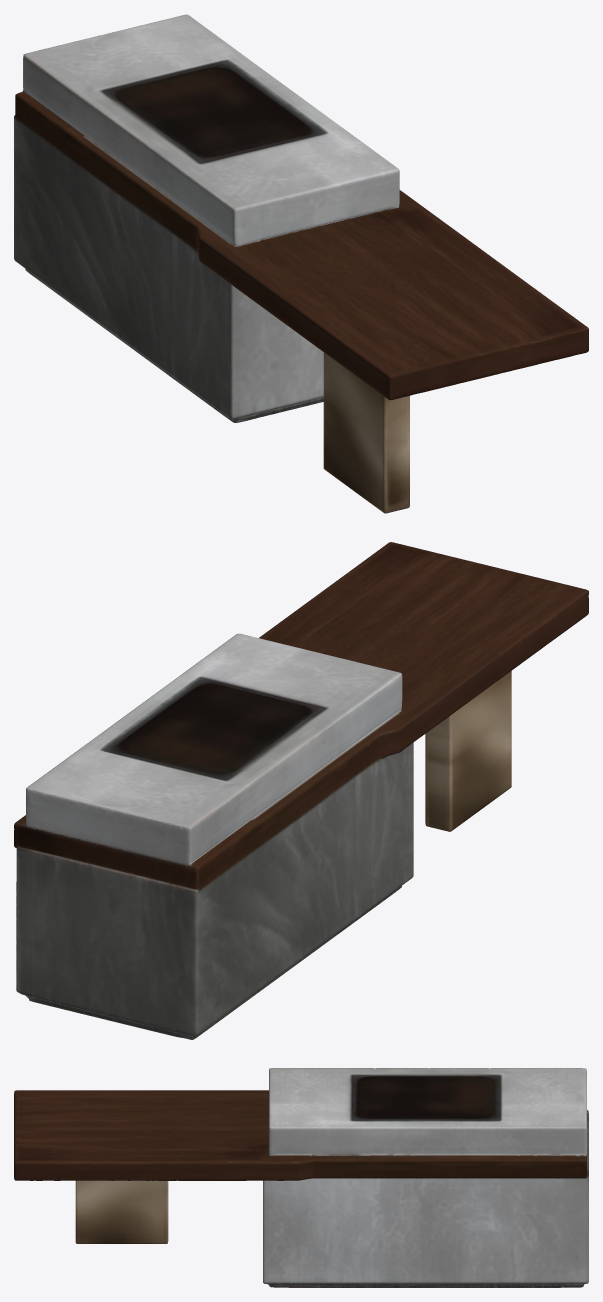
Rendered from 03_Modern Executive Desk with Stone and Wood Top.glb.
The picture shows the model from 3 angles, top to bottom: view 1: azimuth 30°, elevation 25°; view 2: azimuth 150°, elevation 25°; view 3: azimuth 270°, elevation 25°; orthographic projection. The views are drawn at different scales.
Visible parts, largest first — view 1: world; view 2: world; view 3: world.
Part boxes in pixels (x1=…): world: x1=14, y1=14, x2=588, y2=513; world: x1=14, y1=542, x2=588, y2=1039; world: x1=14, y1=1068, x2=588, y2=1287.
Size of the model in its own units: 0.3014 by 0.3121 by 1.
1 material, 1 textured.
